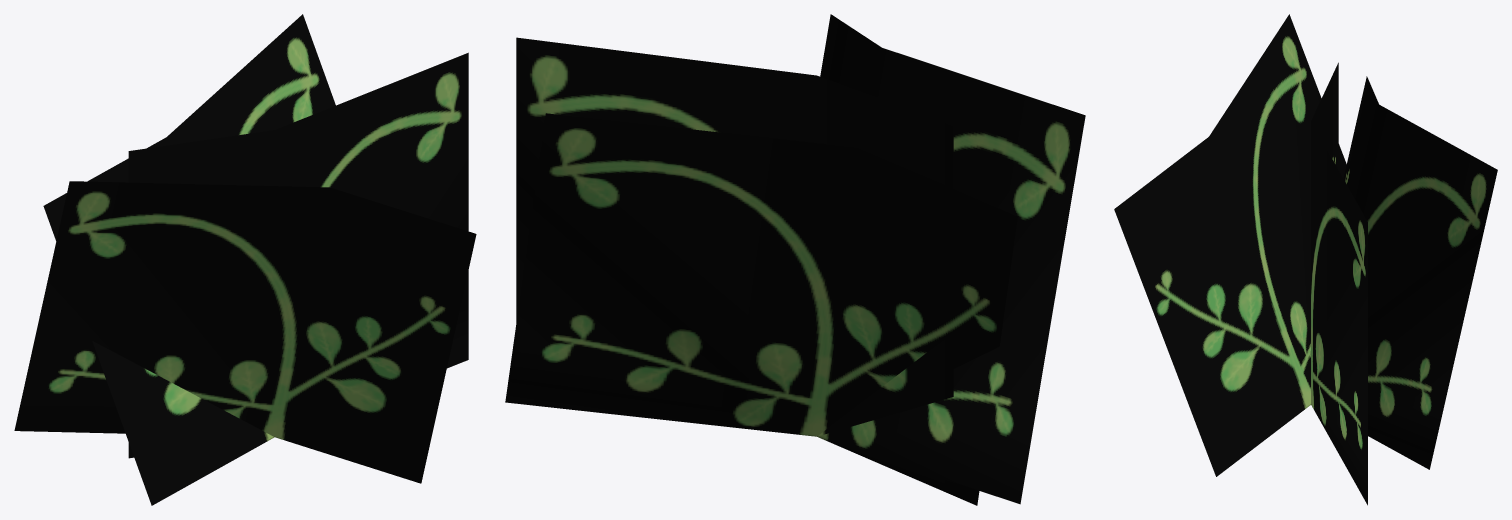
The model's file is LeafSetG_16.fbx.
3 renders of one model, left to right at view 1: azimuth 30°, elevation 25°; view 2: azimuth 150°, elevation 25°; view 3: azimuth 270°, elevation 25°, orthographic. The views are drawn at different scales.
Visible parts, largest first — view 1: LeafSetG_16; view 2: LeafSetG_16; view 3: LeafSetG_16.
Boxes of the visible parts, x1,y1,x2,y2 form: LeafSetG_16: (14,14,476,505); LeafSetG_16: (505,14,1085,505); LeafSetG_16: (1114,14,1497,505).
Size of the model in its own units: 1.05 by 0.7912 by 0.8527.
